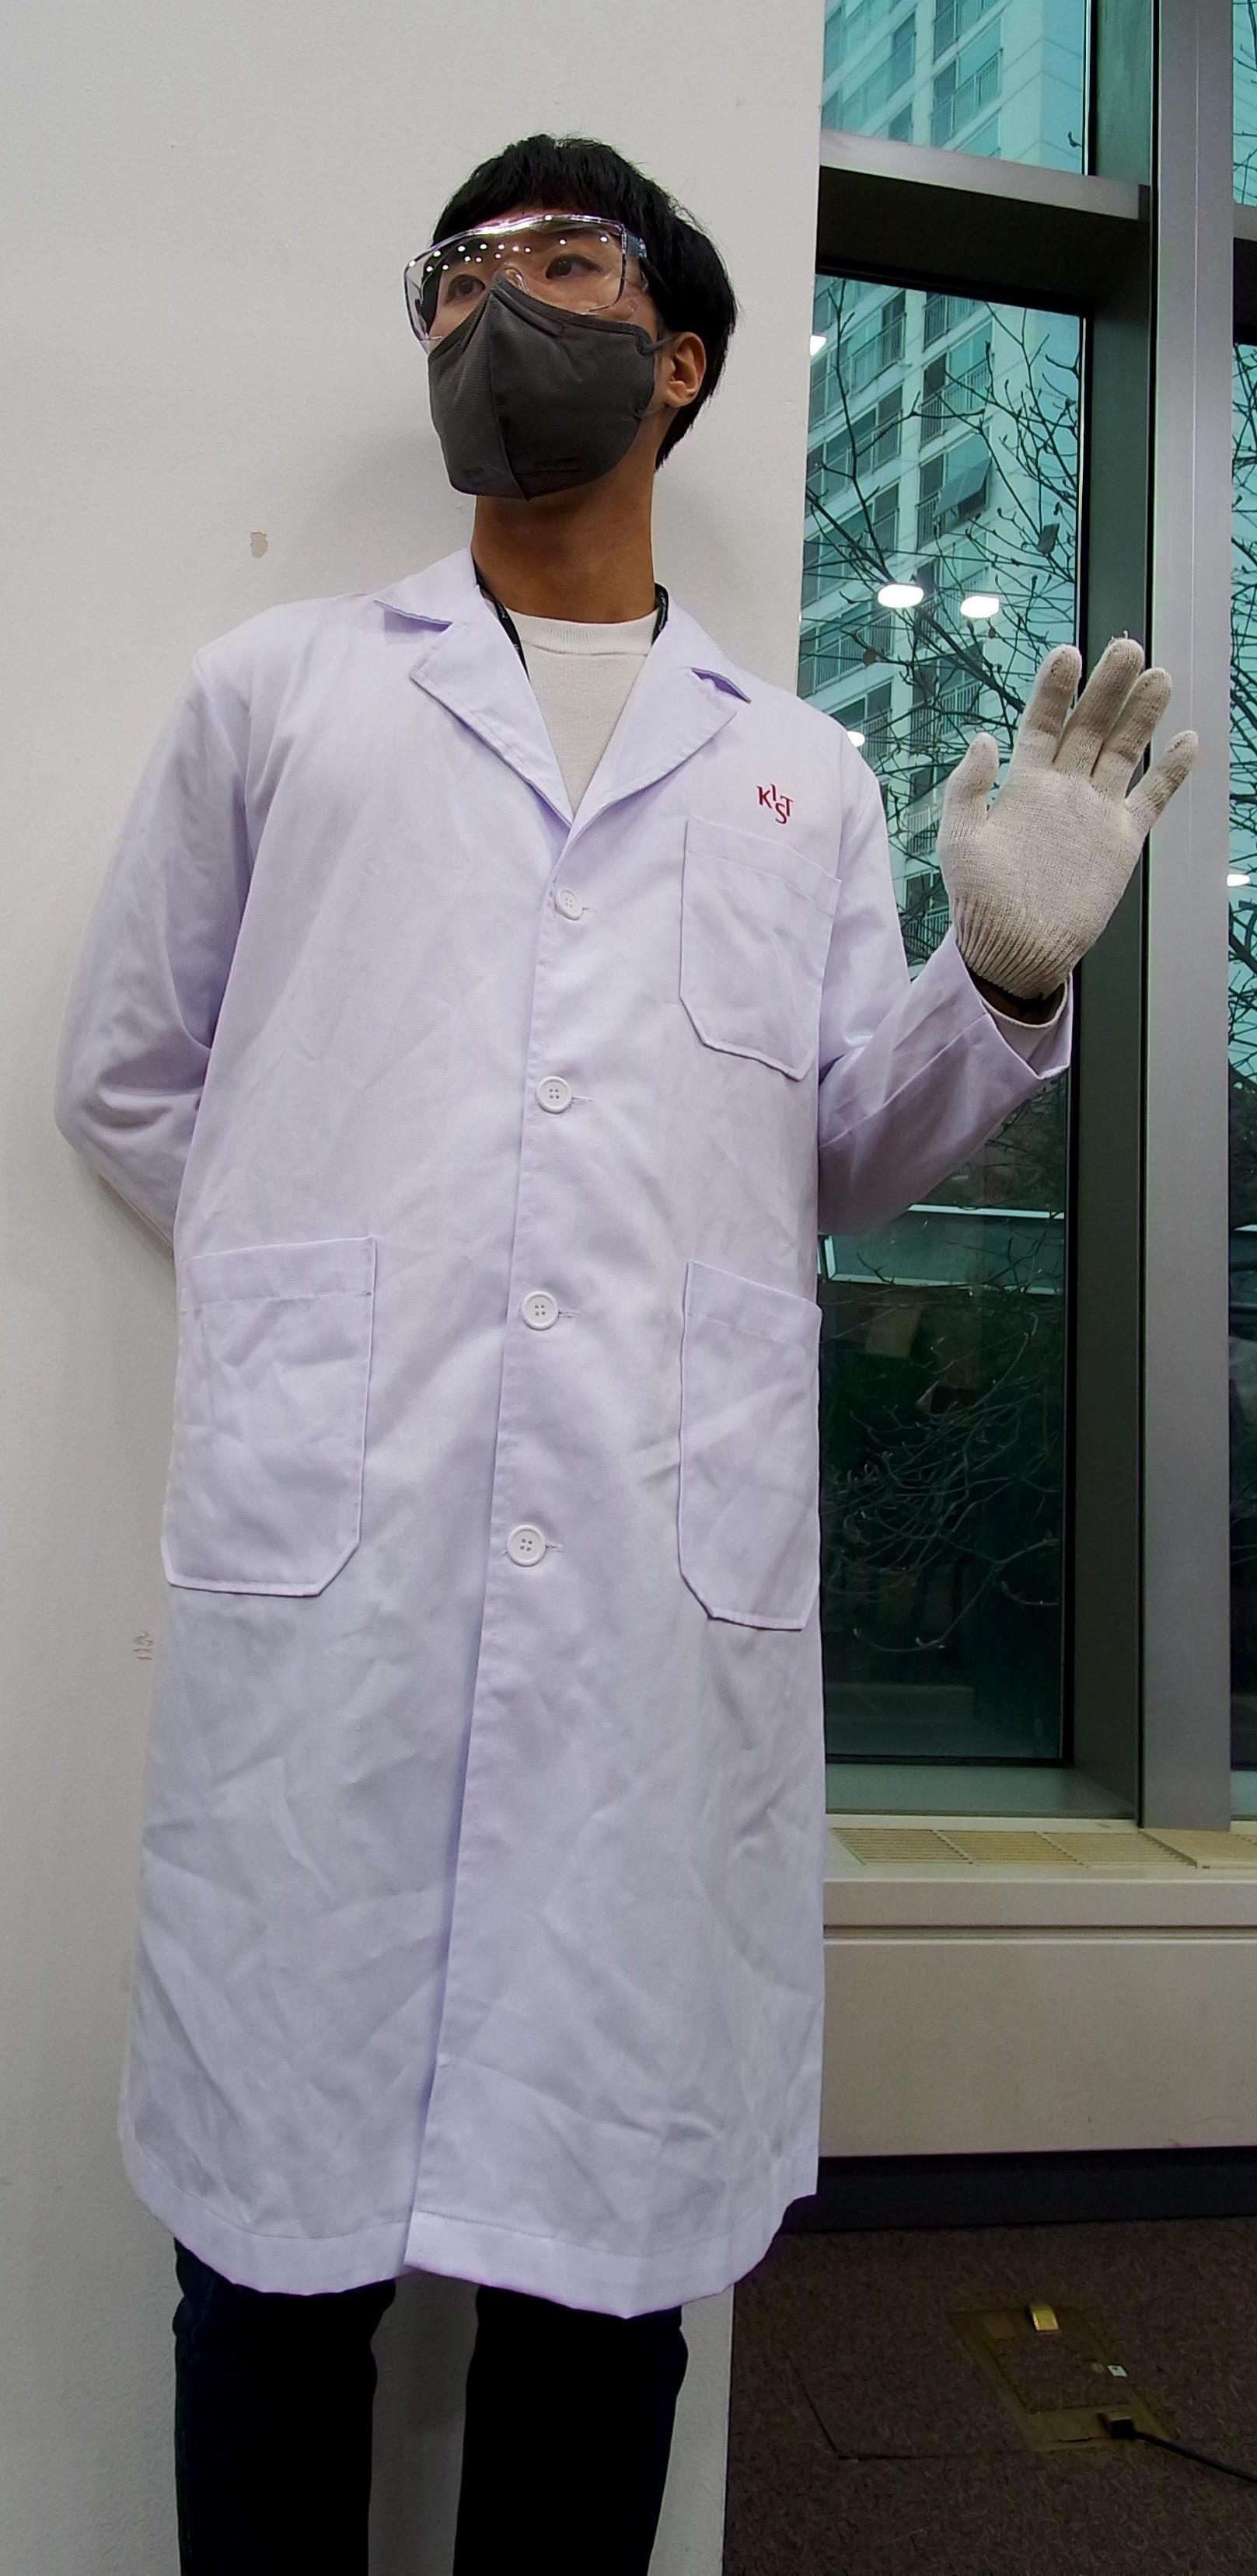lab_coat: (85, 756, 919, 2205)
